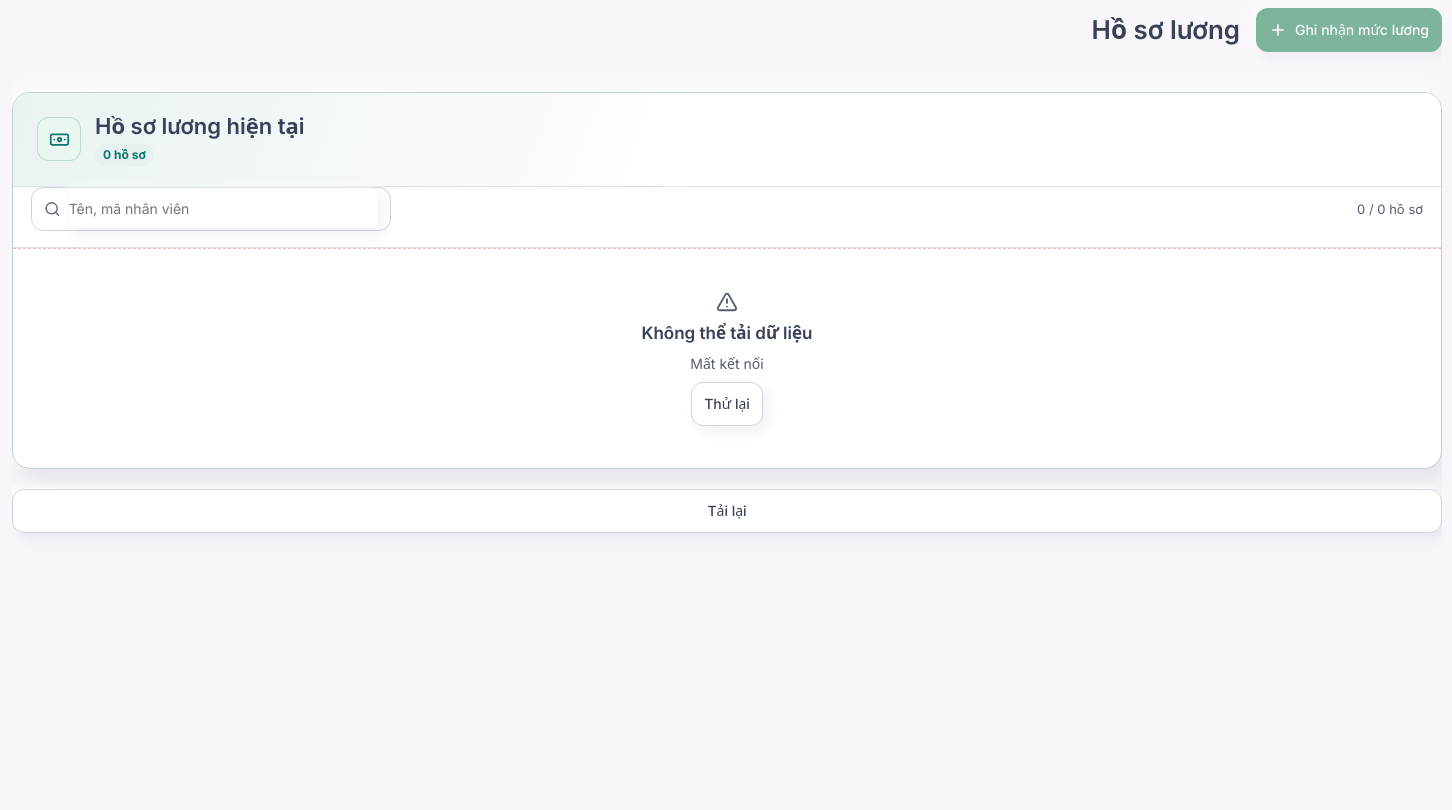
Scenario: salary form network recovery › provides a reload after initial data cannot be read
Expected: the button "Ghi nhận mức lương" is disabled, [1256, 8, 1442, 52]
Click the button "Tải lại": coordinates (727, 511) [12, 489, 1442, 533]
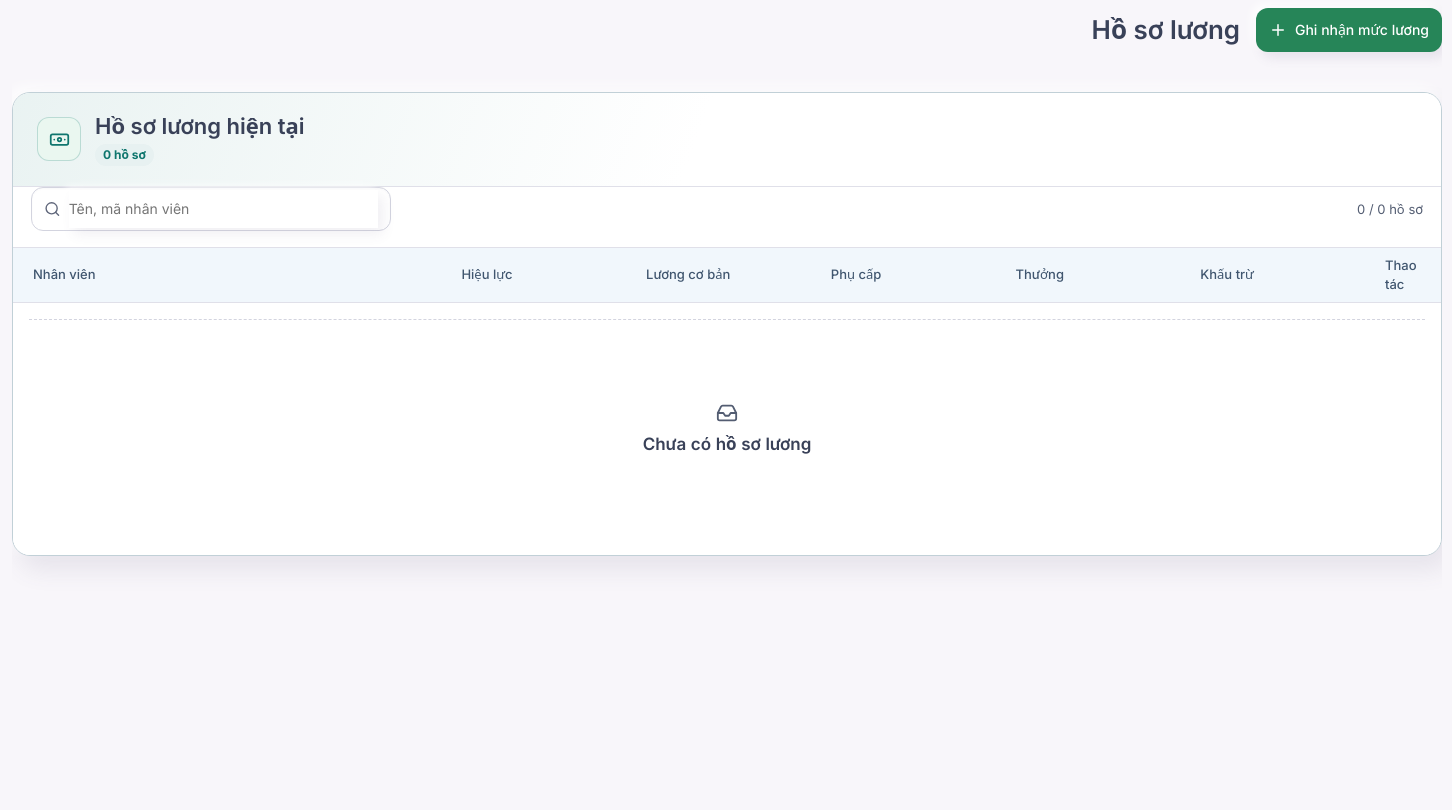
Now the button "Ghi nhận mức lương" is enabled, box [1256, 8, 1442, 52]
